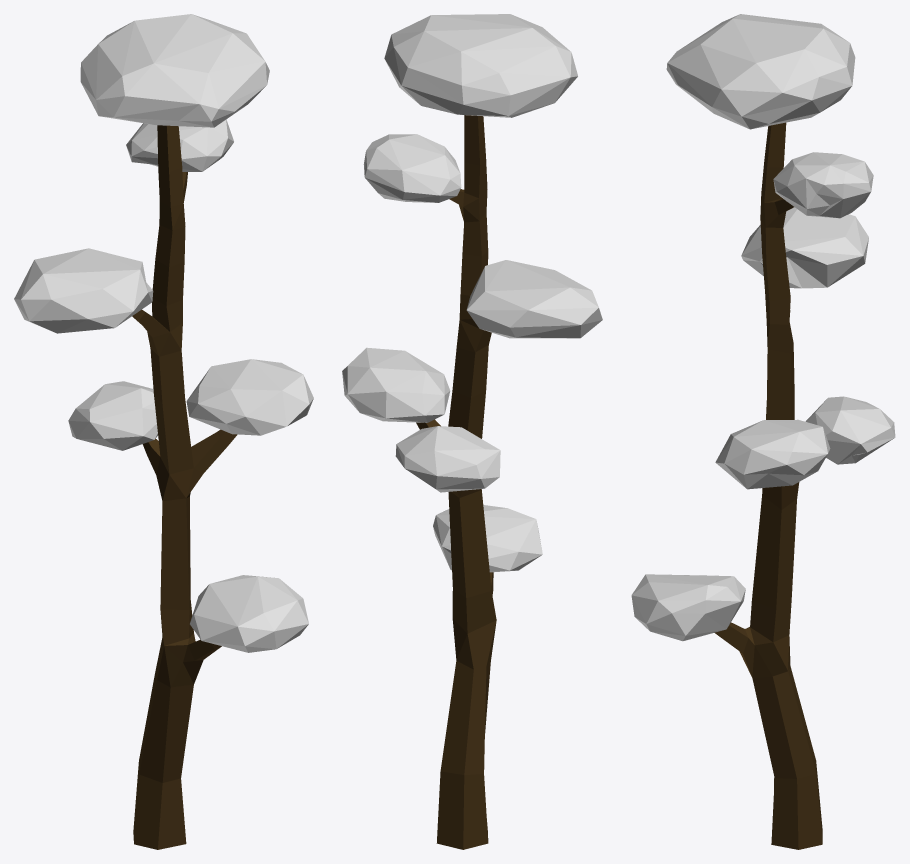
Rendered from Tree3.fbx.
3 views of the same model, side by side, from view 1: azimuth 30°, elevation 25°; view 2: azimuth 150°, elevation 25°; view 3: azimuth 270°, elevation 25° (orthographic).
Parts seen in each view (by area): view 1: Tree2_Base, Tree2_Leaf1, Tree2_Leaf2, Tree2_Leaf3, Tree2_Leaf5, Tree2_Leaf4, Tree2_Leaf0; view 2: Tree2_Base, Tree2_Leaf1, Tree2_Leaf2, Tree2_Leaf3, Tree2_Leaf0, Tree2_Leaf4, Tree2_Leaf5; view 3: Tree2_Base, Tree2_Leaf1, Tree2_Leaf5, Tree2_Leaf2, Tree2_Leaf3, Tree2_Leaf0, Tree2_Leaf4.
Boxes of the visible parts, x1,y1,x2,y2 form: Tree2_Base: [132, 125, 237, 849]; Tree2_Leaf1: [80, 14, 269, 127]; Tree2_Leaf2: [14, 248, 153, 333]; Tree2_Leaf3: [186, 359, 313, 435]; Tree2_Leaf5: [190, 575, 308, 652]; Tree2_Leaf4: [68, 381, 157, 450]; Tree2_Leaf0: [126, 119, 233, 171]; Tree2_Base: [416, 115, 496, 849]; Tree2_Leaf1: [384, 14, 577, 117]; Tree2_Leaf2: [466, 260, 602, 338]; Tree2_Leaf3: [342, 347, 450, 422]; Tree2_Leaf0: [363, 134, 461, 202]; Tree2_Leaf4: [395, 426, 500, 492]; Tree2_Leaf5: [433, 505, 542, 572]; Tree2_Base: [714, 122, 822, 849]; Tree2_Leaf1: [666, 14, 855, 129]; Tree2_Leaf5: [631, 574, 745, 641]; Tree2_Leaf2: [741, 207, 868, 288]; Tree2_Leaf3: [715, 419, 830, 489]; Tree2_Leaf0: [773, 152, 873, 218]; Tree2_Leaf4: [805, 396, 895, 464].
Size of the model in its own units: 32.07 by 93.58 by 27.78.
